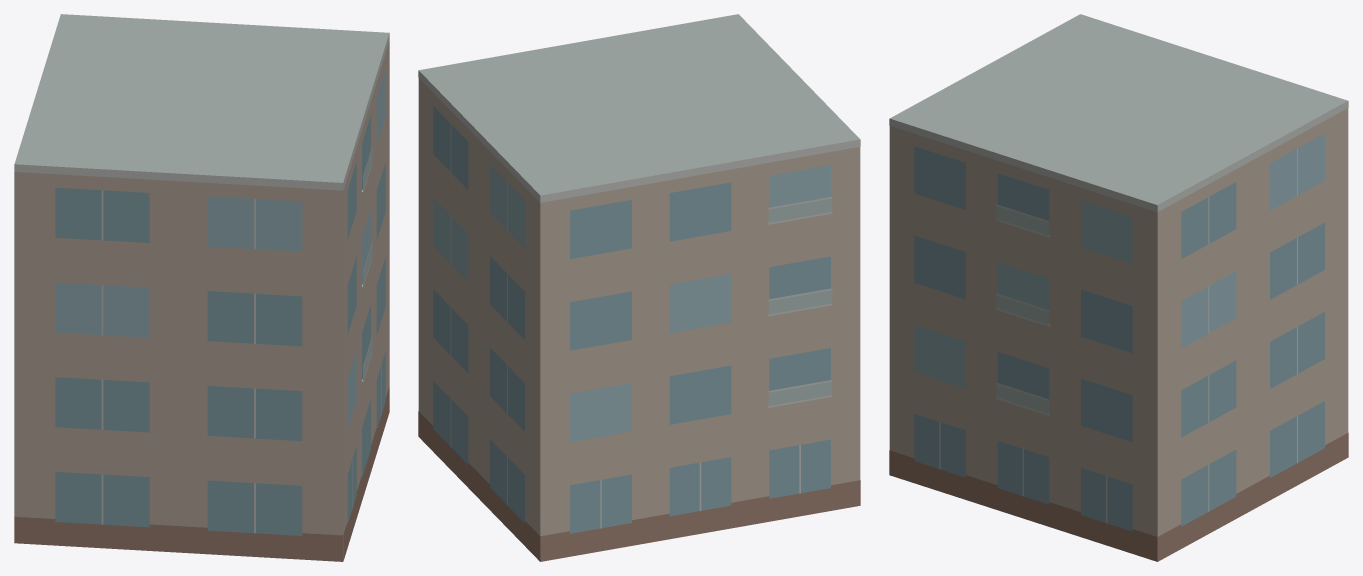
The model's file is survey-upis-32807154.glb.
3 views of the same model, side by side, from view 1: azimuth 30°, elevation 25°; view 2: azimuth 150°, elevation 25°; view 3: azimuth 270°, elevation 25° (orthographic). The views are drawn at different scales.
Visible parts, largest first — view 1: survey-upis-32807154.tmp; view 2: survey-upis-32807154.tmp; view 3: survey-upis-32807154.tmp.
Boxes of the visible parts, box(x1,y1,x2,y2) form: survey-upis-32807154.tmp: box(14, 14, 389, 561); survey-upis-32807154.tmp: box(418, 14, 860, 561); survey-upis-32807154.tmp: box(889, 14, 1348, 561).
Bounding box in the file's own units: 14.03 × 12.2 × 14.23.
